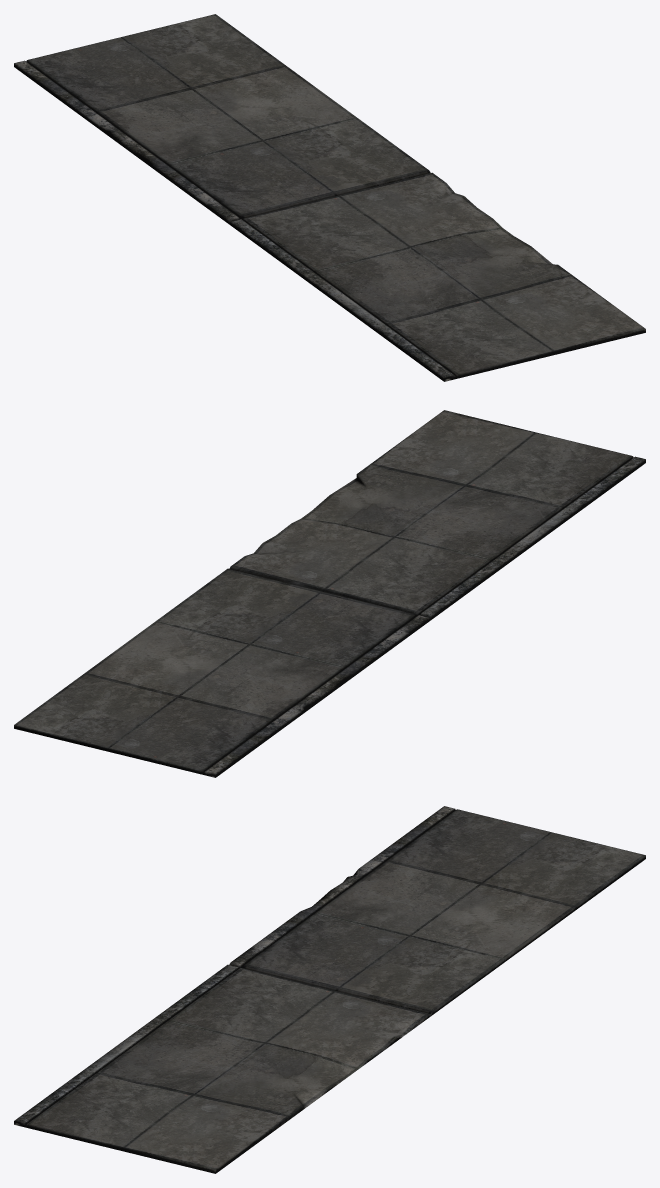
The model's file is Path.fbx.
3 views of the same model, one above another, from view 1: azimuth 30°, elevation 25°; view 2: azimuth 150°, elevation 25°; view 3: azimuth 330°, elevation 25° (orthographic).
Visible parts, largest first — view 1: Cube_003; view 2: Cube_003; view 3: Cube_003.
Part boxes in pixels (<box>): Cube_003: <box>14,14,645,381</box>; Cube_003: <box>14,410,645,777</box>; Cube_003: <box>14,806,645,1173</box>.
Size of the model in its own units: 2.04 by 0.036 by 7.54.
